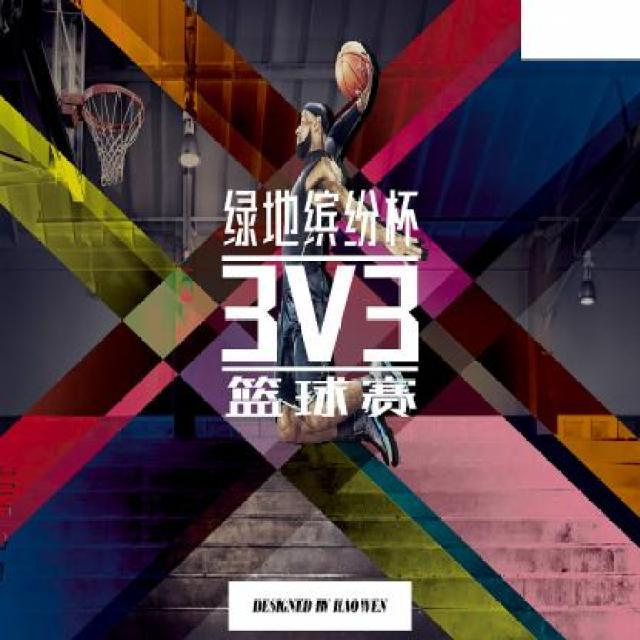basketball: (335, 40, 369, 98)
rim: (81, 82, 145, 186)
